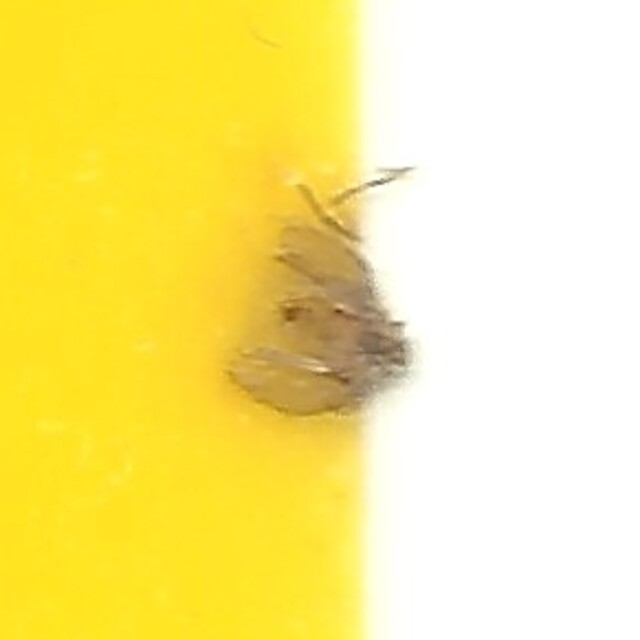Hemiptera: (220, 220, 420, 420)
